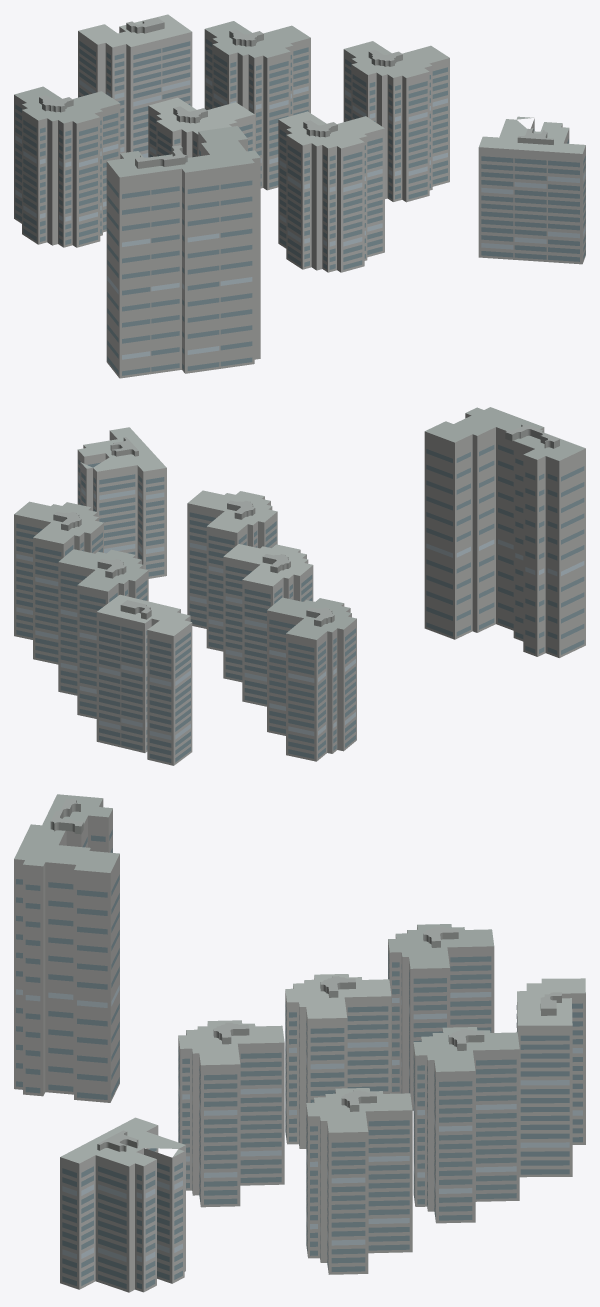
Rendered from apt-a15609007.glb.
The picture shows the model from 3 angles, top to bottom: view 1: azimuth 30°, elevation 25°; view 2: azimuth 150°, elevation 25°; view 3: azimuth 270°, elevation 25°; orthographic projection. The views are drawn at different scales.
Parts seen in each view (by area): view 1: apt-a15609007; view 2: apt-a15609007; view 3: apt-a15609007.
Part boxes in pixels (x1,y1,x2,y2): apt-a15609007: (14, 14, 585, 378); apt-a15609007: (14, 407, 585, 765); apt-a15609007: (14, 794, 585, 1292).
Size of the model in its own units: 174 by 72 by 157.
